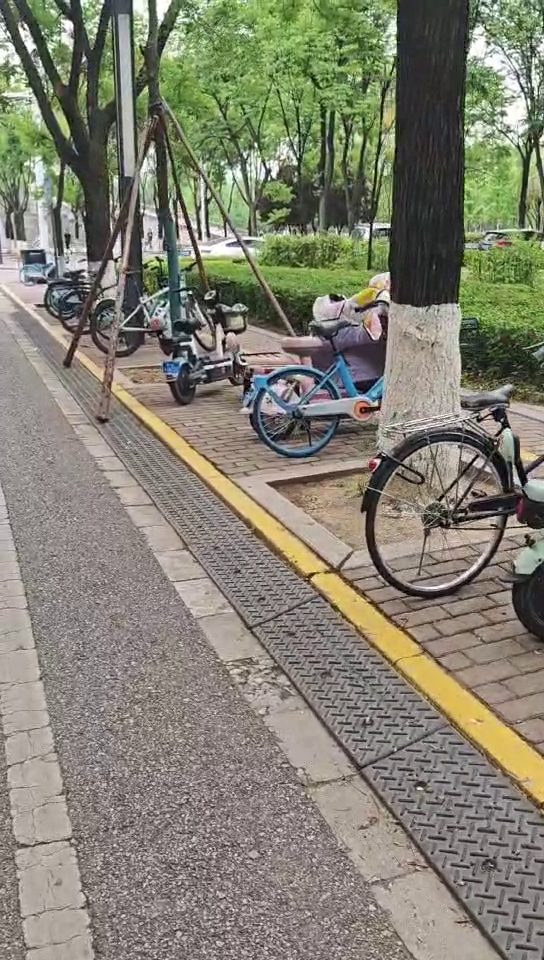others: (369, 341, 544, 603), (164, 280, 245, 403)
shared_bike_haluo: (251, 297, 419, 467)
